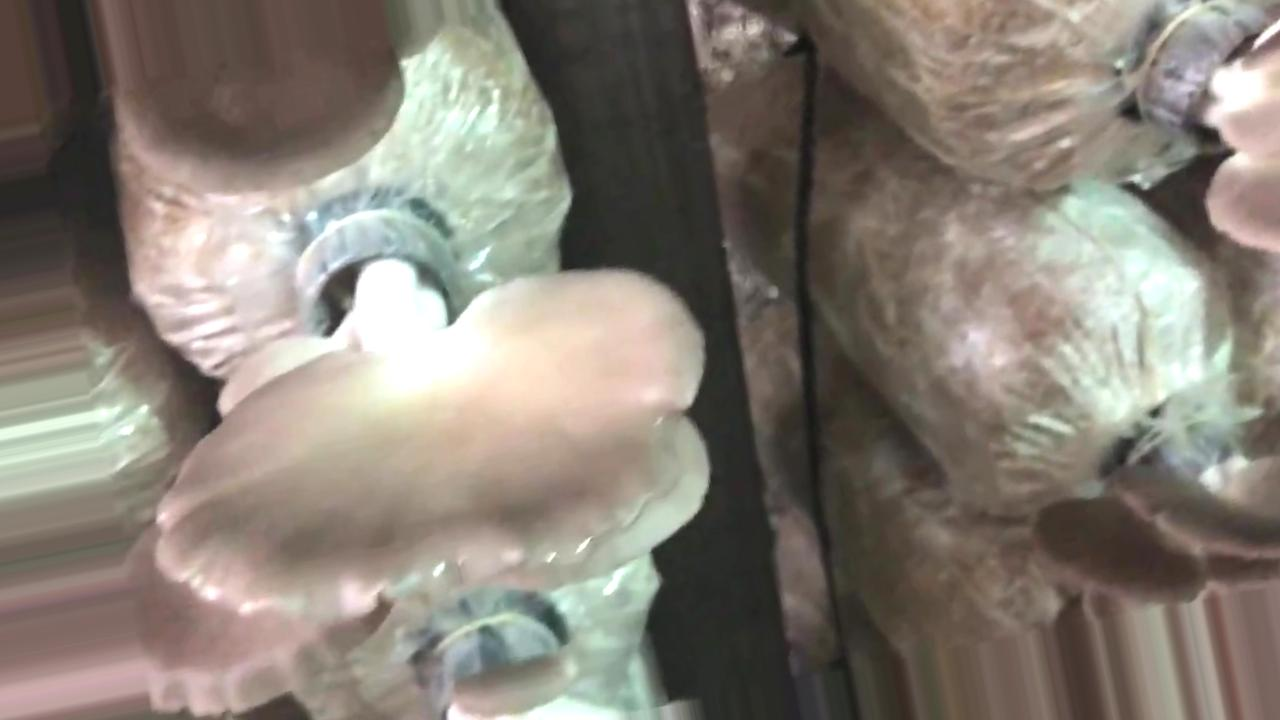nam: (163, 206, 717, 618), (115, 1, 449, 198), (1028, 407, 1280, 613), (1143, 1, 1280, 253)
